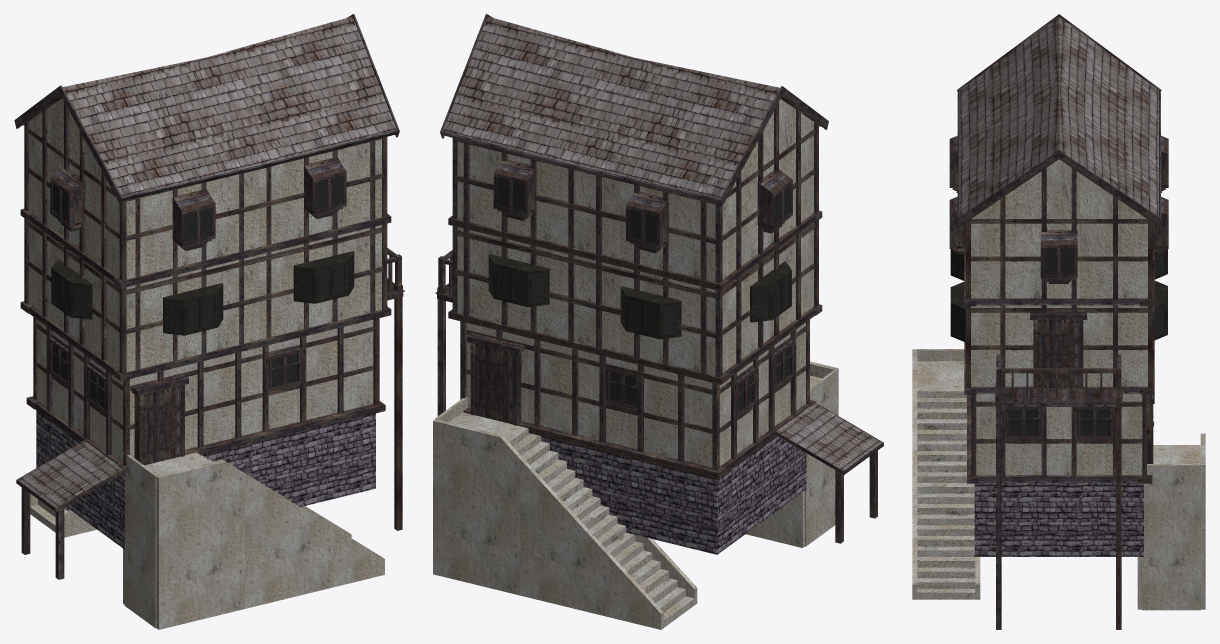
File: house74.dae
The picture shows the model from 3 angles, left to right: view 1: azimuth 30°, elevation 25°; view 2: azimuth 150°, elevation 25°; view 3: azimuth 270°, elevation 25°; orthographic projection. The views are drawn at different scales.
Visible parts, largest first — view 1: House4_Roof, Stair1LongWideSide2, House4_Level3, House4_Level2, House4_Level1, House4_Level0, House4_Level1_Beams, House4_Level2_Beams, House4_Level3_Beams, Stair1LongWideBack, Roof2Outer, House4_Level2_SeperatorBeams (+22 smaller); view 2: House4_Roof, Stair1LongWideSide2_001, House4_Level3, House4_Level2, House4_Level0, House4_Level1, House4_Level2_Beams, House4_Level1_Beams, House4_Level3_Beams, Stair1LongWide_001, Roof2Outer, House4_Level2_SeperatorBeams (+23 smaller); view 3: House4_Roof, House4_Level3, Stair1LongWide, House4_Level0, Stair1LongWideBack_001, House4_Level2, House4_Level1, House4_Level3_Beams, House4_Roof_Frame, House4_Level1_Beams, House4_Level2_Beams, Door1_002 (+25 smaller).
Boxes of the visible parts, box(x1,y1,x2,y2) form: House4_Roof: box(62, 16, 396, 196); Stair1LongWideSide2: box(156, 460, 384, 629); House4_Level3: box(29, 98, 381, 279); House4_Level2: box(29, 221, 381, 371); House4_Level1: box(37, 320, 373, 462); House4_Level0: box(36, 410, 375, 549); House4_Level1_Beams: box(33, 317, 379, 465); House4_Level2_Beams: box(24, 218, 387, 373); House4_Level3_Beams: box(24, 102, 387, 280); Stair1LongWideBack: box(124, 455, 157, 628); Roof2Outer: box(18, 440, 121, 507); House4_Level2_SeperatorBeams: box(20, 208, 391, 288); House4_Roof: box(443, 16, 779, 198); Stair1LongWideSide2_001: box(433, 419, 663, 629); House4_Level3: box(457, 99, 814, 281); House4_Level2: box(457, 223, 813, 375); House4_Level0: box(541, 436, 806, 554); House4_Level1: box(466, 322, 805, 467); House4_Level2_Beams: box(452, 220, 818, 377); House4_Level1_Beams: box(460, 319, 809, 470); House4_Level3_Beams: box(452, 102, 818, 283); Stair1LongWide_001: box(450, 412, 694, 627); Roof2Outer: box(776, 403, 882, 470); House4_Level2_SeperatorBeams: box(448, 210, 822, 291); House4_Roof: box(959, 17, 1158, 216); House4_Level3: box(971, 159, 1147, 298); Stair1LongWide: box(917, 361, 975, 599); House4_Level0: box(974, 483, 1143, 556); Stair1LongWideBack_001: box(1142, 464, 1200, 610); House4_Level2: box(971, 305, 1147, 386); House4_Level1: box(976, 393, 1142, 475); House4_Level3_Beams: box(966, 168, 1154, 298); House4_Roof_Frame: box(957, 14, 1161, 226); House4_Level1_Beams: box(971, 394, 1146, 476); House4_Level2_Beams: box(966, 305, 1154, 387); Door1_002: box(1037, 320, 1079, 388).
Bounding box in the file's own units: 10.82 × 7.95 × 14.1.
17 materials, 17 textured.
